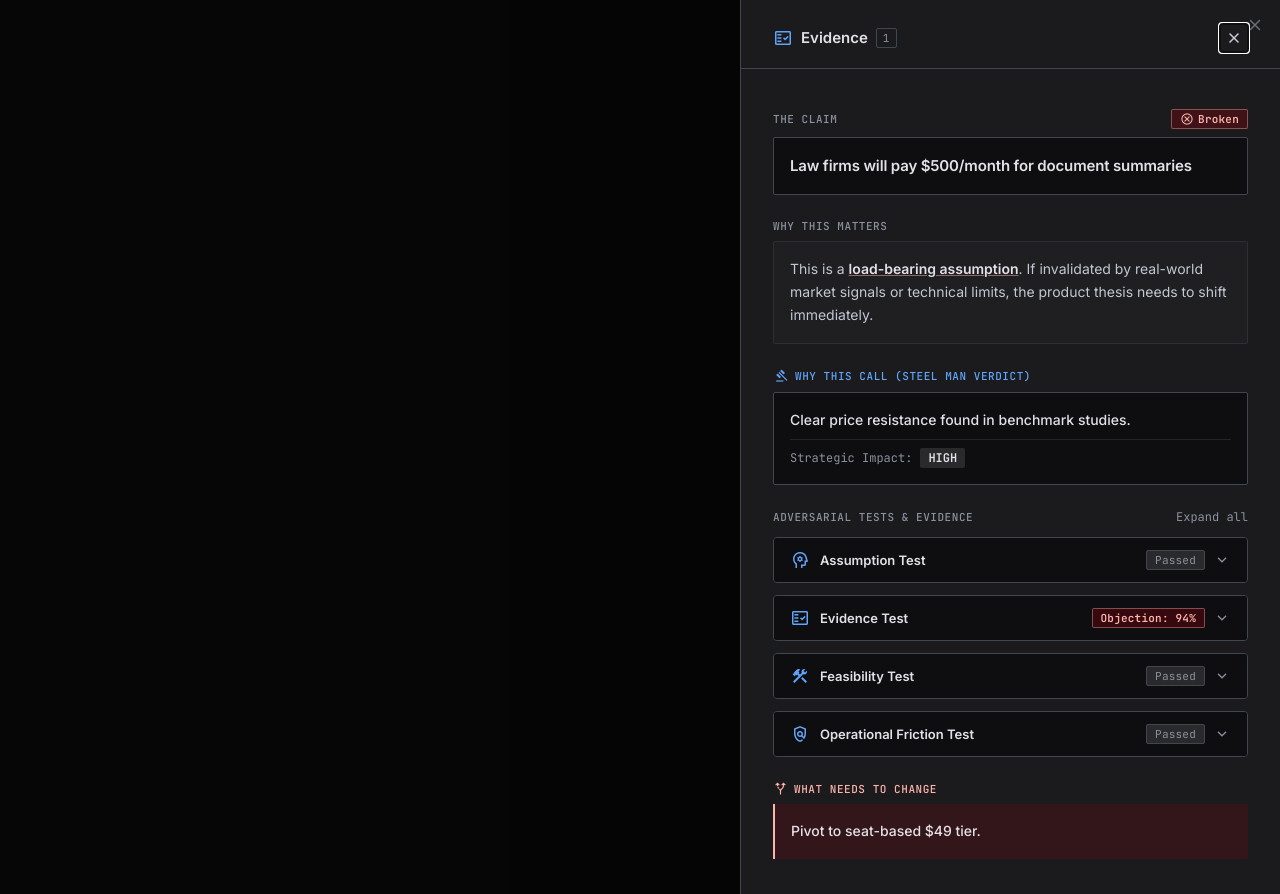
Test: EvidenceDrawer › renders claim details, audit trail, and 4 collapsible test windows
Expected: the heading "Evidence" is shown, x1=801 y1=28 x2=868 y2=48
Expected: the text "Law firms will pay $500/month for document summaries" is shown, x1=790 y1=154 x2=1231 y2=178
Click Evidence Test to open it
Click the button "Evidence Test Objection: 94%".
click(864, 618)  # box x1=774 y1=596 x2=1247 y2=640
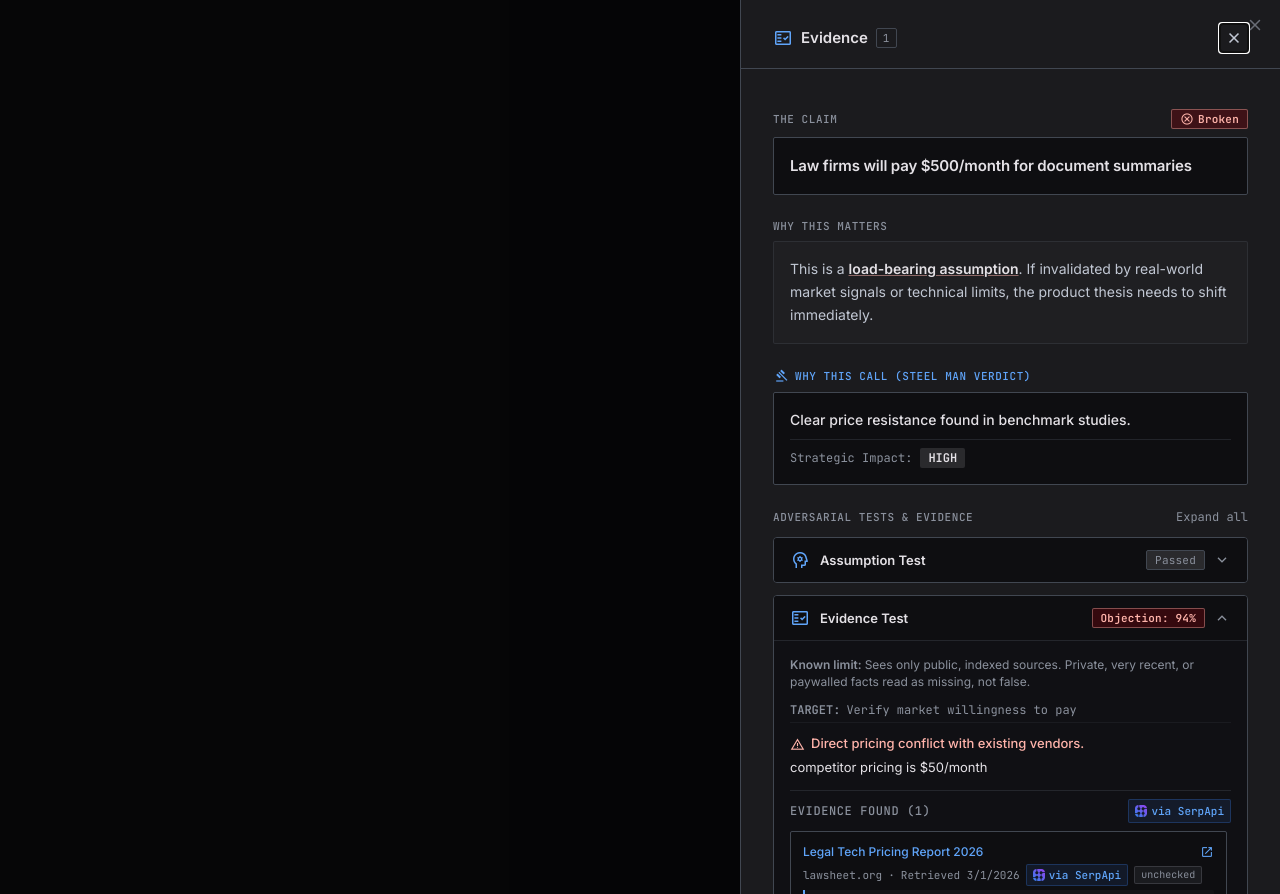
Now the text "Legal Tech Pricing Report 2026" is shown, box x1=803 y1=844 x2=983 y2=860
Click to collapse again
Click the button "Evidence Test Objection: 94%".
click(864, 618)  # box x1=774 y1=596 x2=1247 y2=640
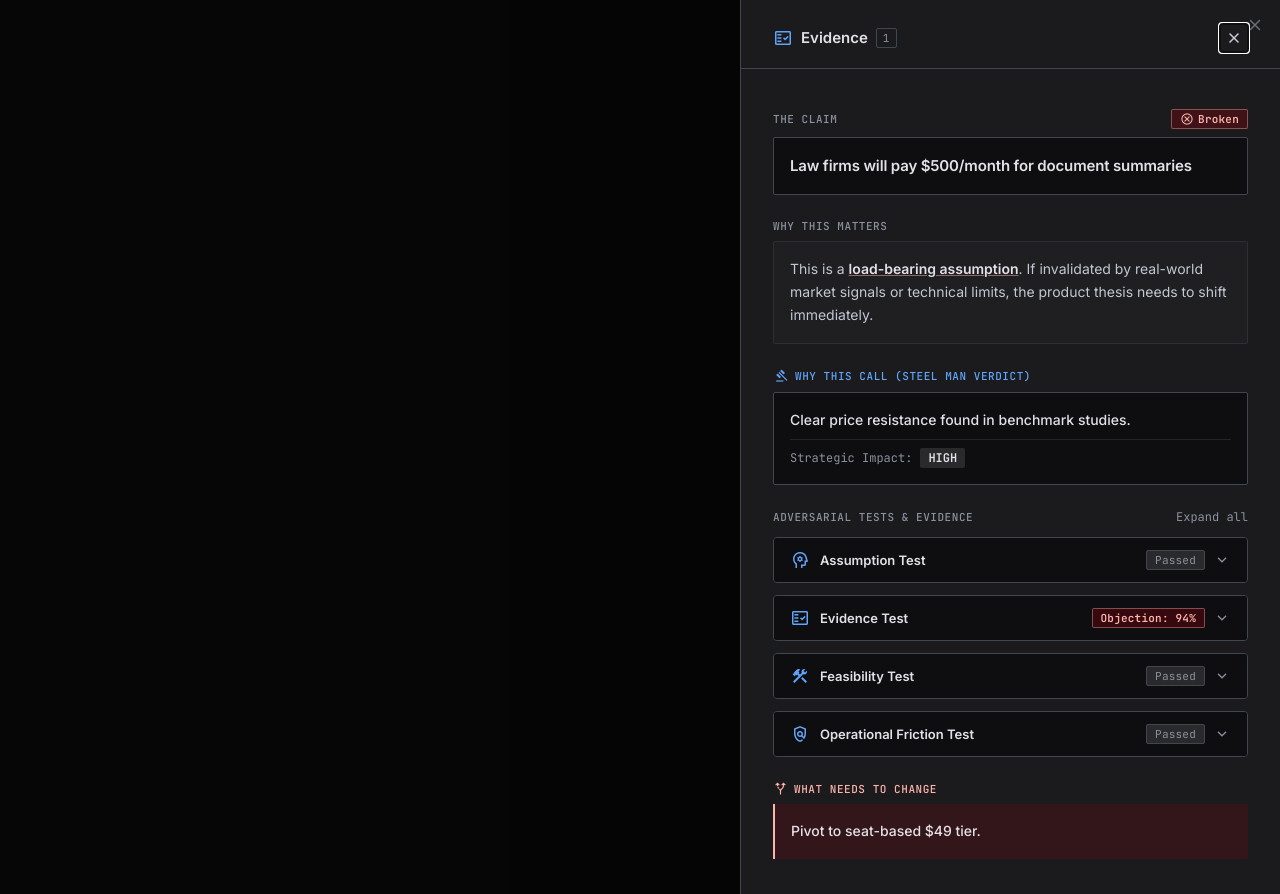
Now the link "Legal Tech Pricing Report 2026" is gone
